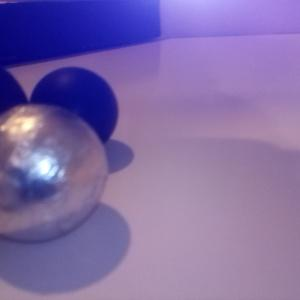alive_ball: (1, 103, 108, 243)
dead_ball: (29, 67, 118, 157), (1, 66, 30, 154)
